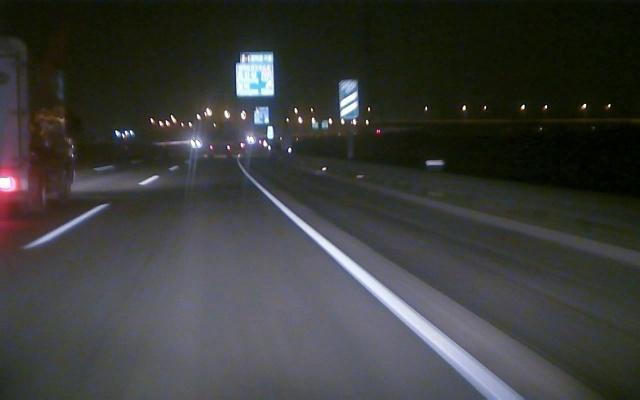lane: (250, 178, 524, 398), (14, 175, 159, 251)
